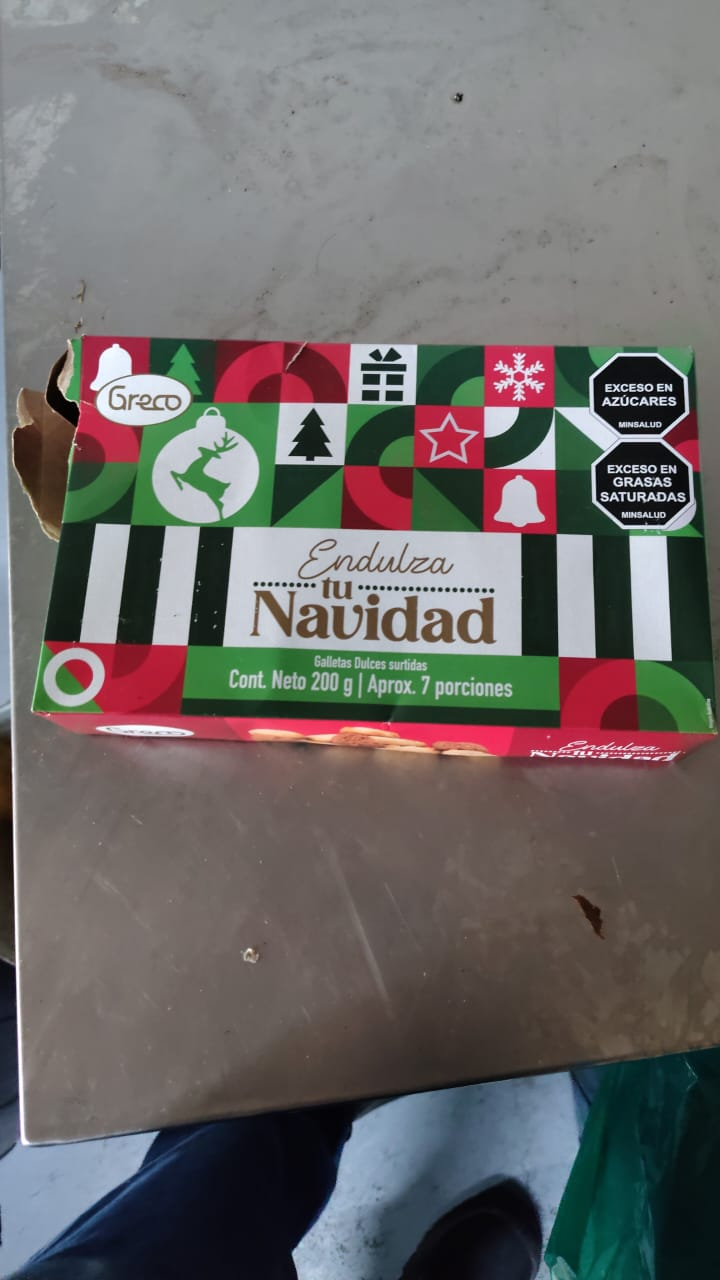Carton: (34, 336, 716, 768)
